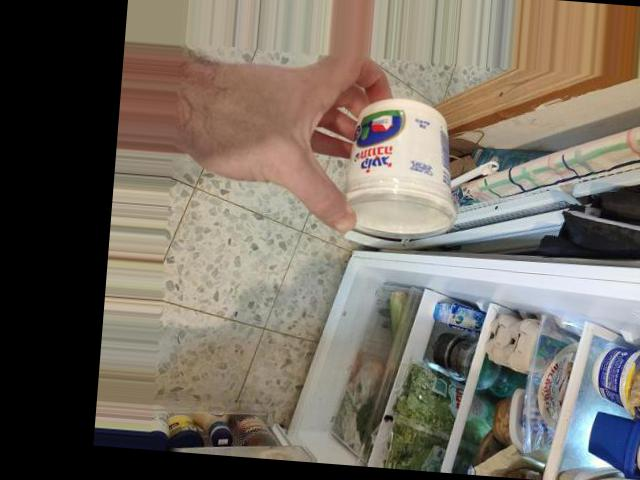cotage: (333, 105, 452, 232)
